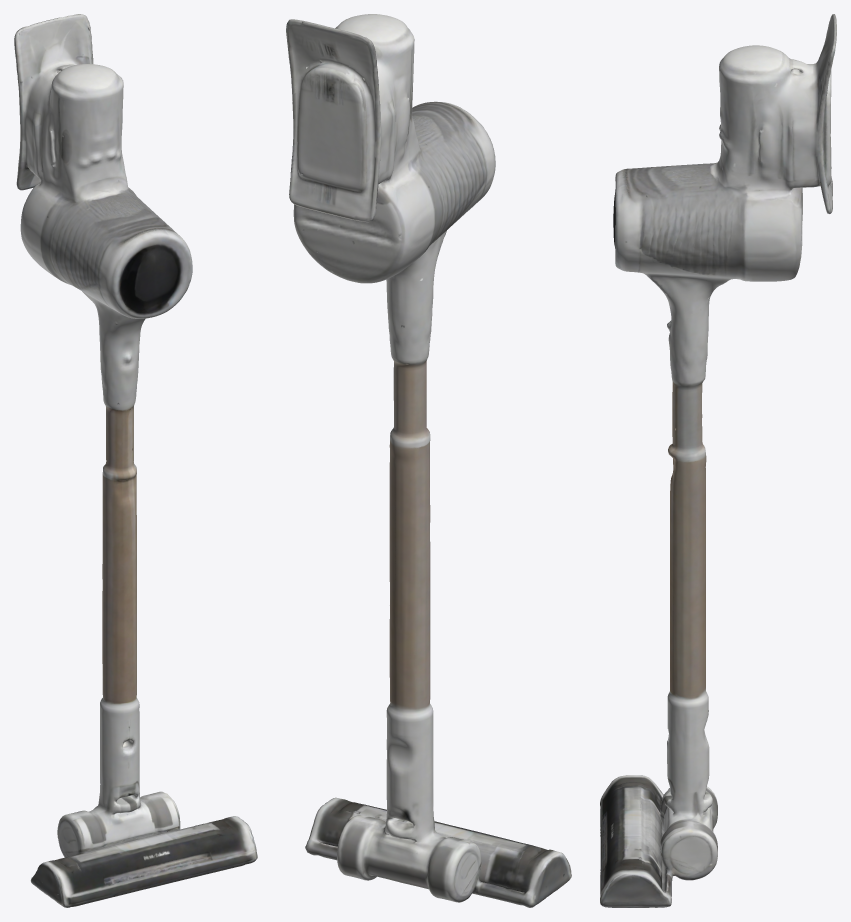
3 views of the same model, side by side, from view 1: azimuth 30°, elevation 25°; view 2: azimuth 150°, elevation 25°; view 3: azimuth 270°, elevation 25° (orthographic). The views are drawn at different scales.
Bounding box in the file's own units: 0.5193 × 2 × 0.5156.
Materials: 1 (1 with a texture image).
